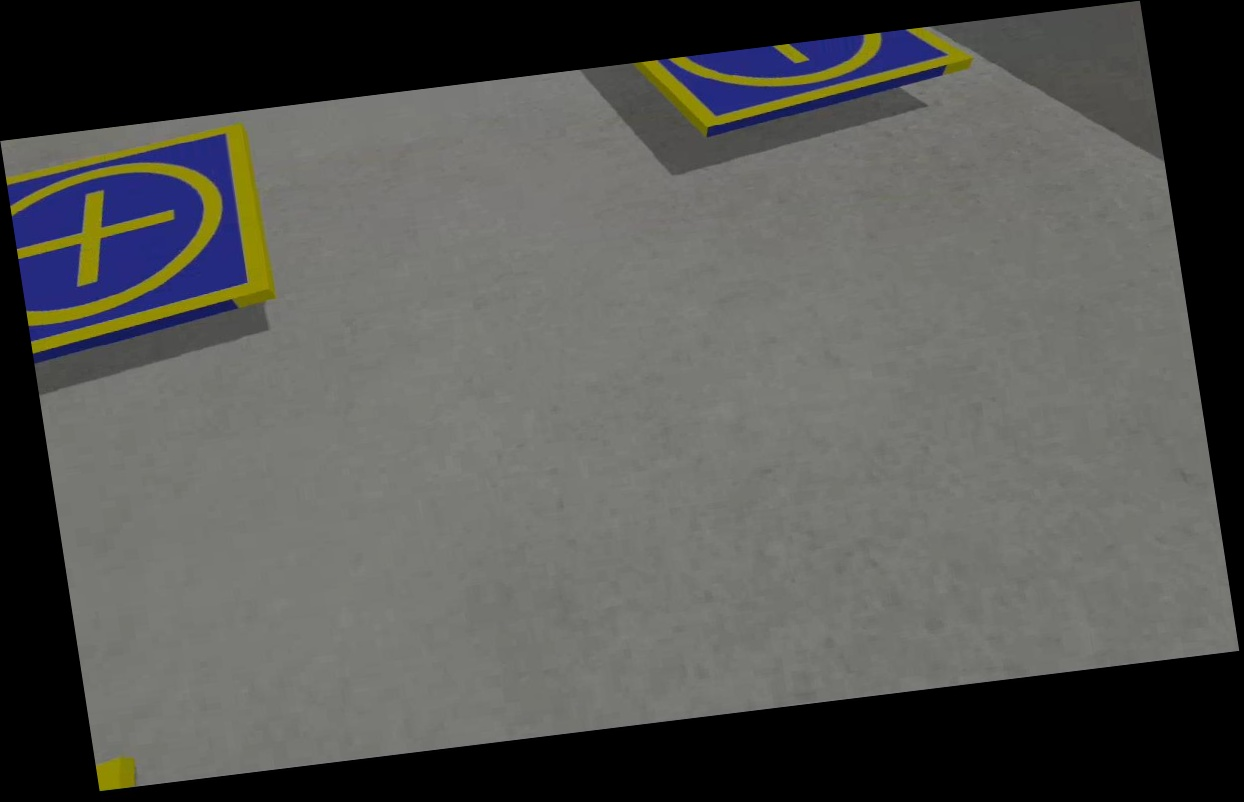small_base: (2, 120, 285, 366), (634, 22, 981, 147)
